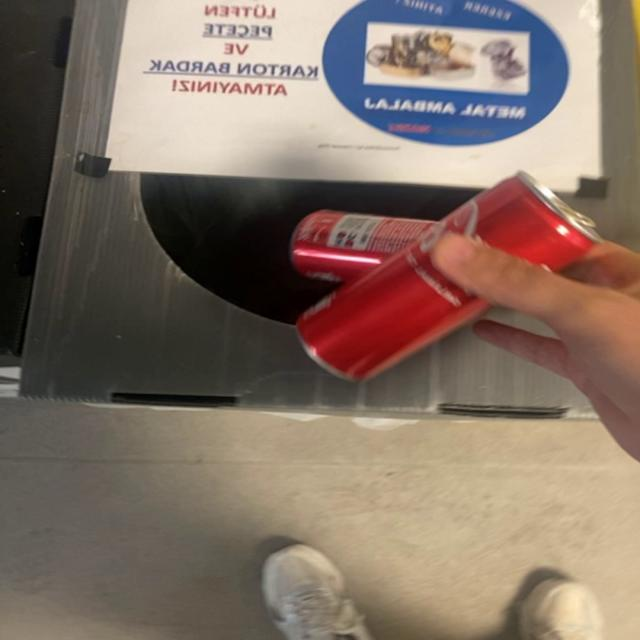bin: (21, 0, 639, 416)
metal: (292, 171, 603, 380)
